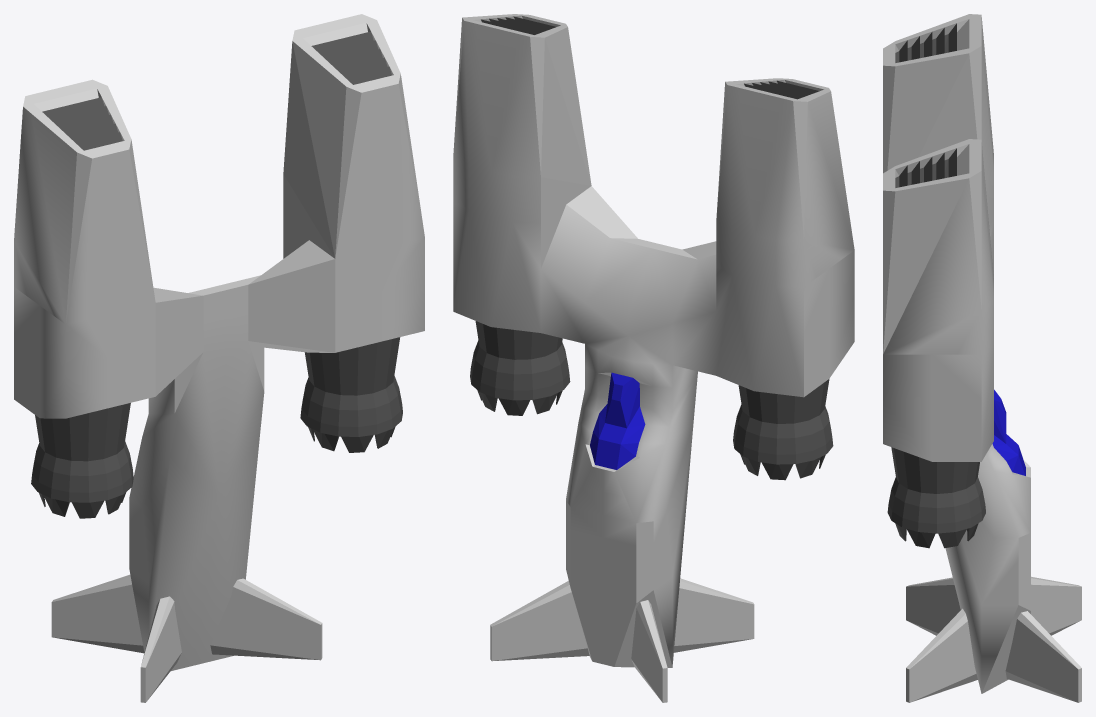
The model's file is MediumBody.fbx.
3 renders of one model, left to right at view 1: azimuth 30°, elevation 25°; view 2: azimuth 150°, elevation 25°; view 3: azimuth 270°, elevation 25°, orthographic. The views are drawn at different scales.
Parts seen in each view (by area): view 1: MediumBody; view 2: MediumBody; view 3: MediumBody.
Boxes of the visible parts, box(x1,y1,x2,y2) form: MediumBody: box(14, 14, 424, 702); MediumBody: box(453, 14, 854, 702); MediumBody: box(883, 14, 1081, 702).
Bounding box in the file's own units: 800 × 1300 × 404.
